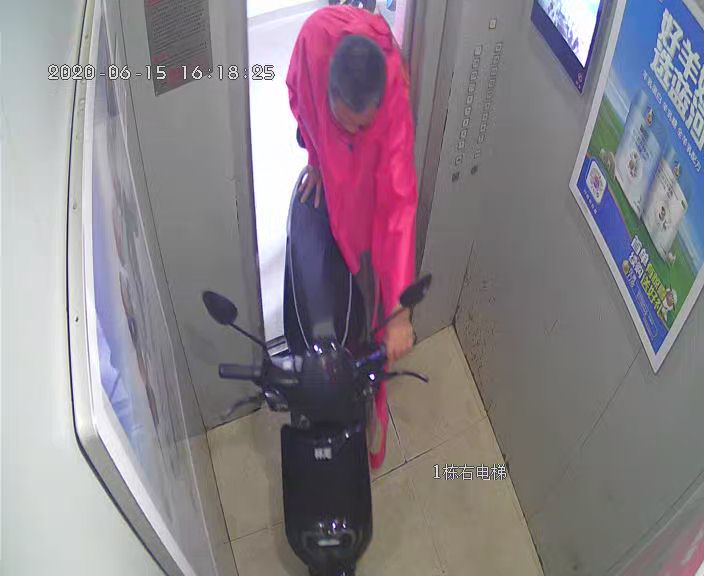Electric-bicycle: (201, 156, 428, 561)
